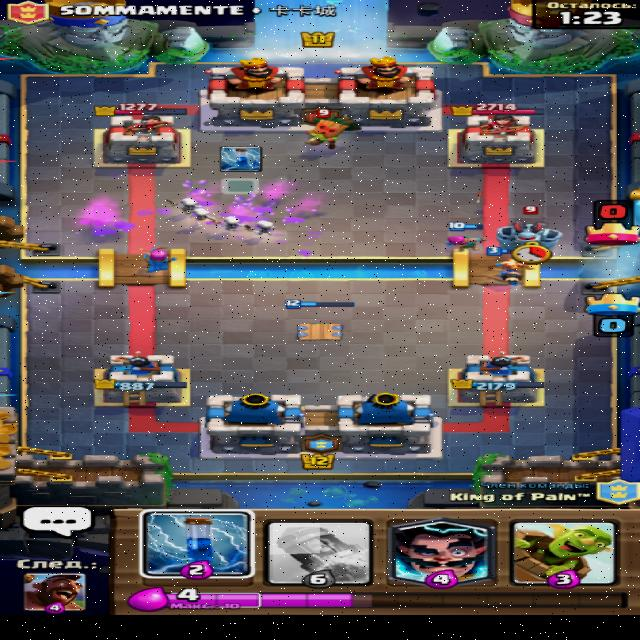Enemy-DartGoblin: (300, 107, 362, 150)
Enemy-MegaMinion: (492, 205, 563, 249)
Player-Archer: (442, 221, 487, 252), (136, 245, 178, 274)
Player-Princess: (482, 246, 536, 286)
Player-Skeleton: (161, 195, 202, 214), (242, 217, 276, 236), (183, 207, 213, 227), (210, 214, 244, 231)
Player-Tesla: (281, 298, 355, 341)
